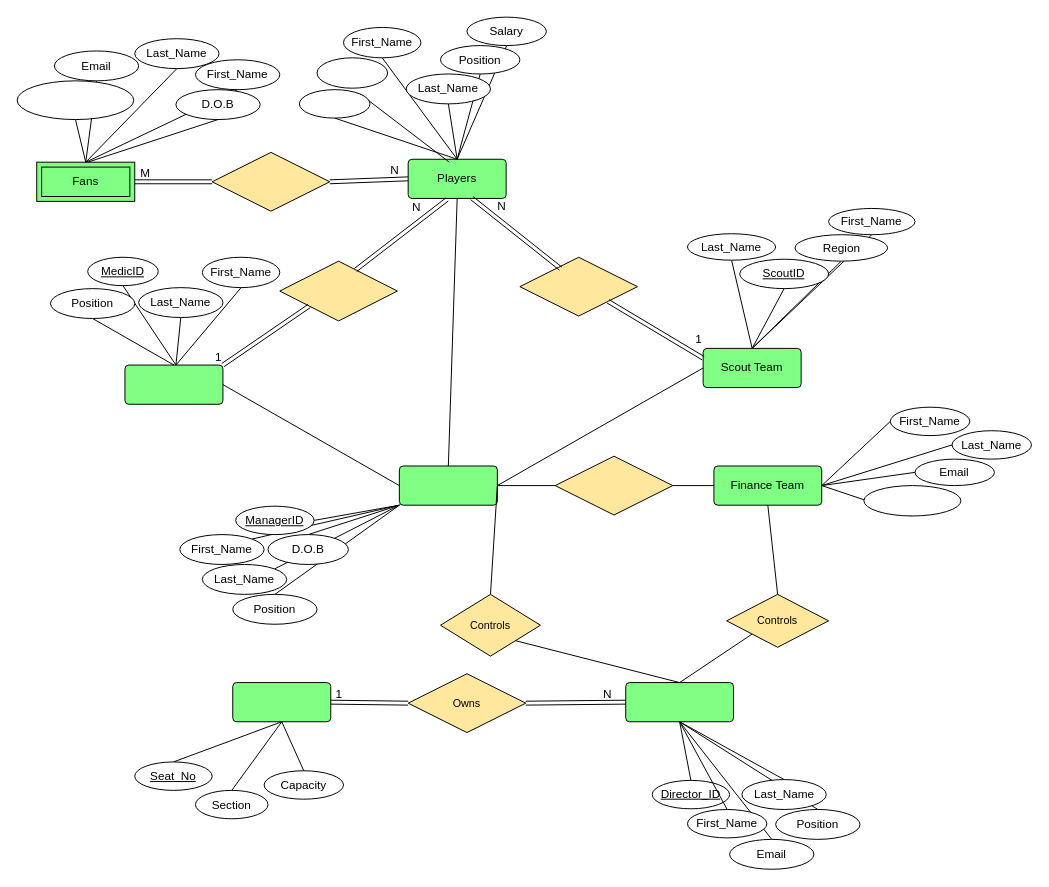
Image size: 1049x887. Some labels were removed from this diagram. The shapes that lost their labels are listed below. From the top down, each one's box as (x1, y1, x2, y2) in pixels, then its label:
(316, 57, 388, 88): Age
(16, 80, 134, 120): Membership_ID
(298, 89, 370, 118): PlayerID
(211, 151, 330, 211): Support
(279, 260, 397, 321): Aid
(519, 256, 637, 316): Scout
(124, 364, 223, 404): Medical Team
(398, 465, 497, 505): Management Team
(554, 455, 673, 515): Supply
(863, 485, 961, 516): Finance_ID
(232, 682, 331, 722): Stadium
(625, 682, 734, 722): Board of Directors
